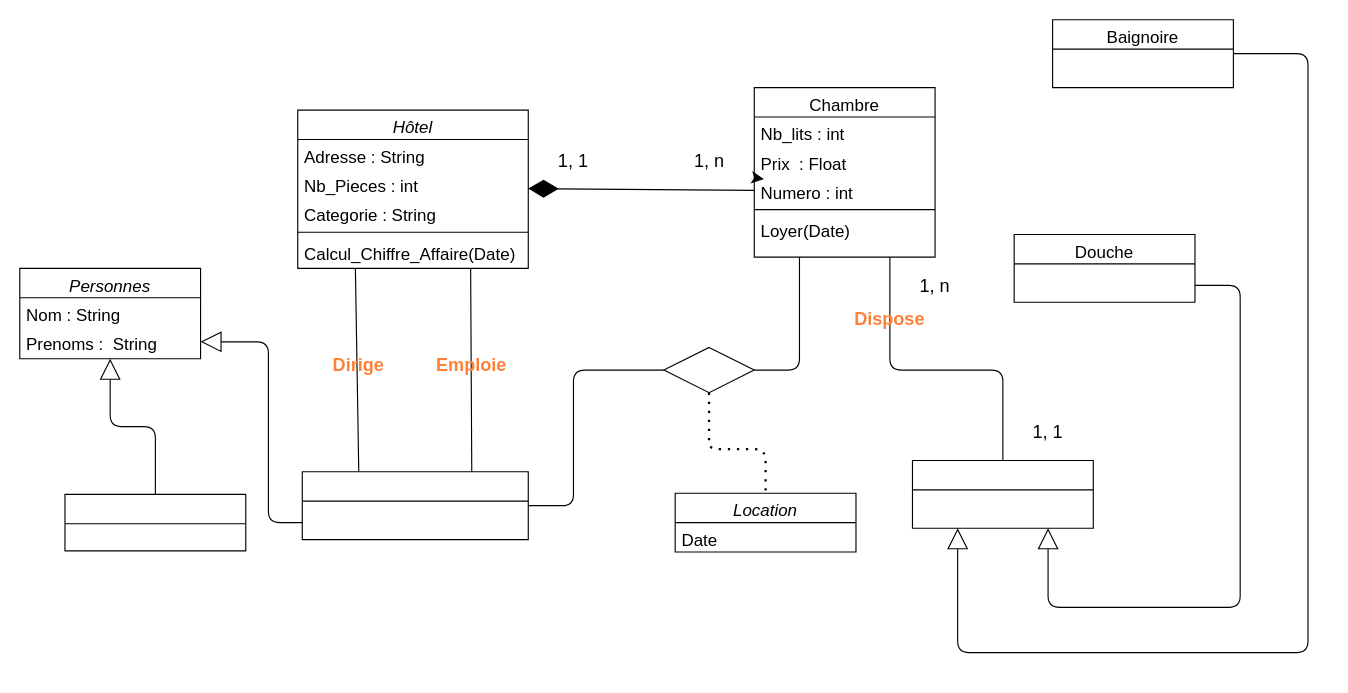
The diagram is 1348 pixels wide and 693 high, and some of its shapes have lost their labels. Each missing label, with the centre of its shape:
"Adultes" belongs at pixel 414 505.
"Enfants" belongs at pixel 155 522.
"Salle_D_eau" belongs at pixel 1002 493.
